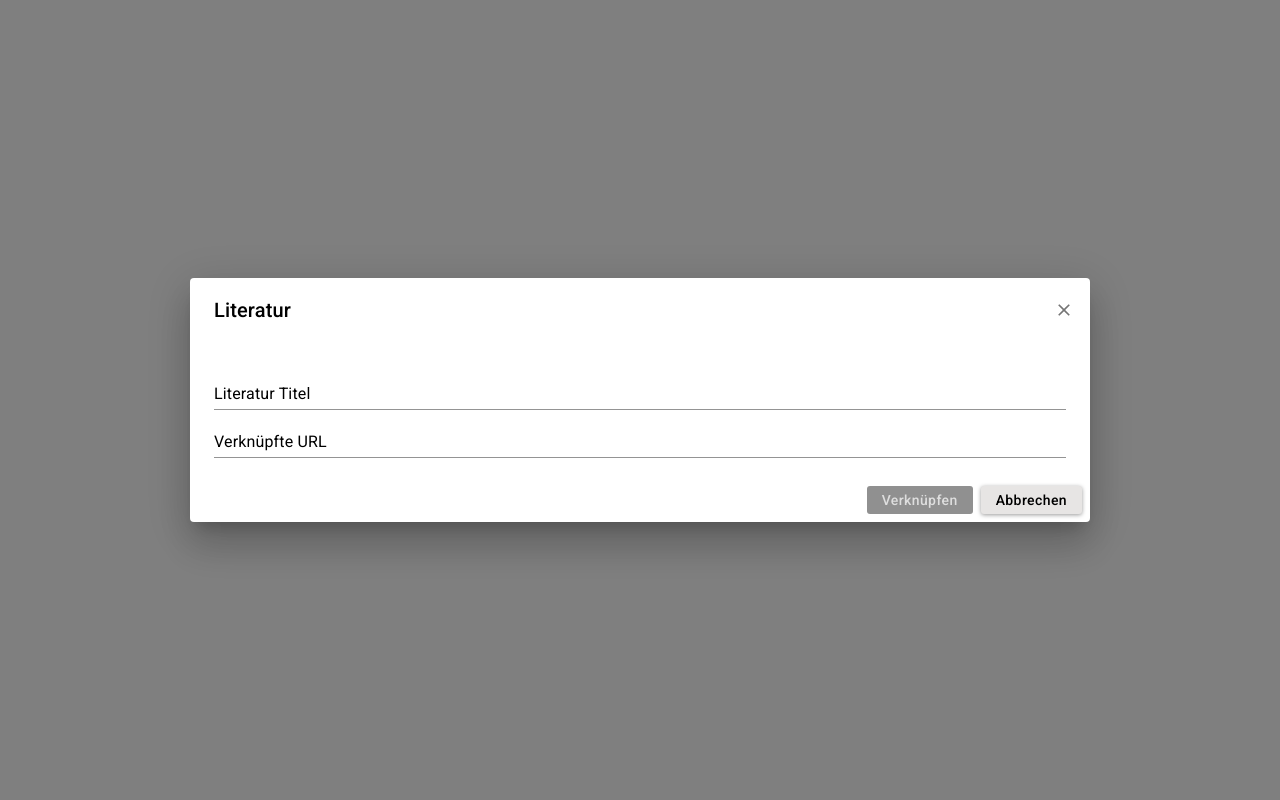
Test: LiteraturDialog › in edit mode › selecting options fills URL
What coordinates should you click on to do the following:
click the dropdown labelled "Literatur Titel"
I would click on:
 (640, 394)
Its box is [214,378,1066,409].
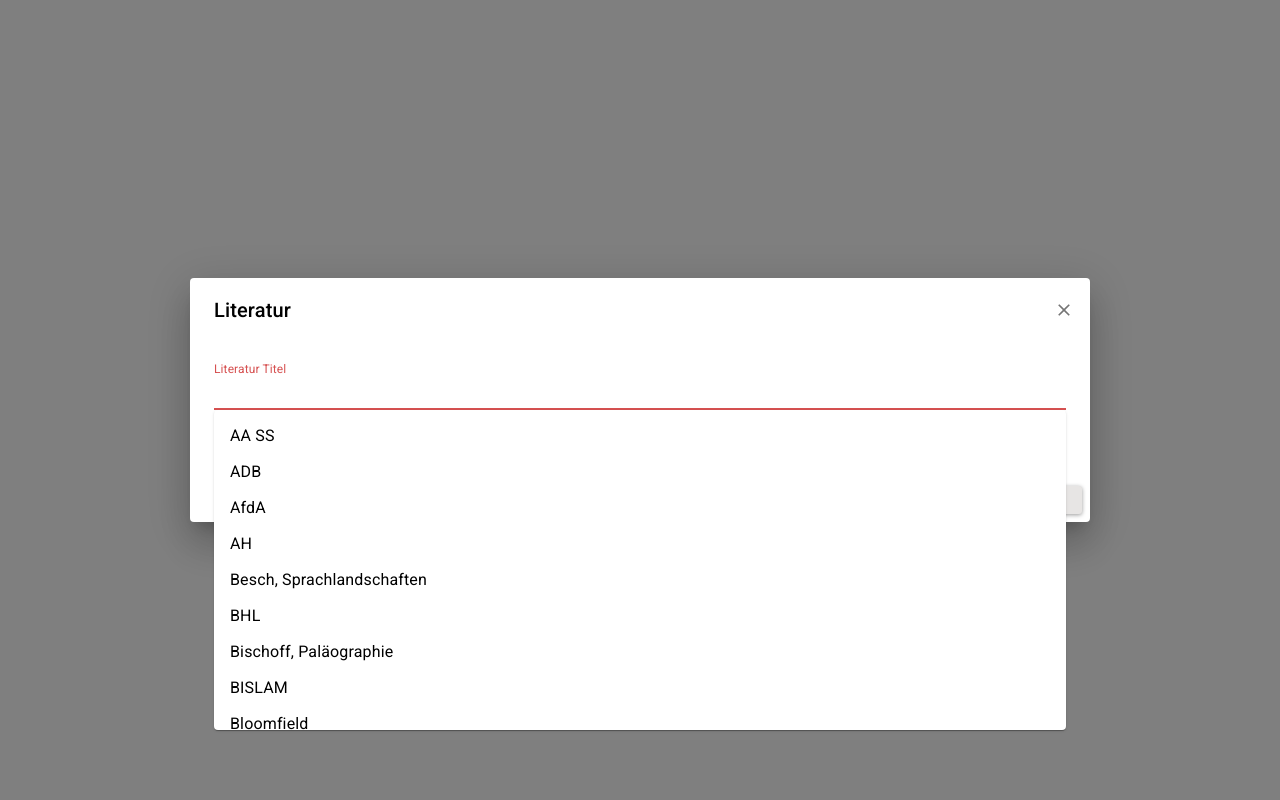
What coordinates should you click on to do the following:
click the option "AA SS"
I would click on:
 (252, 436)
Its box is [230,426,275,445].
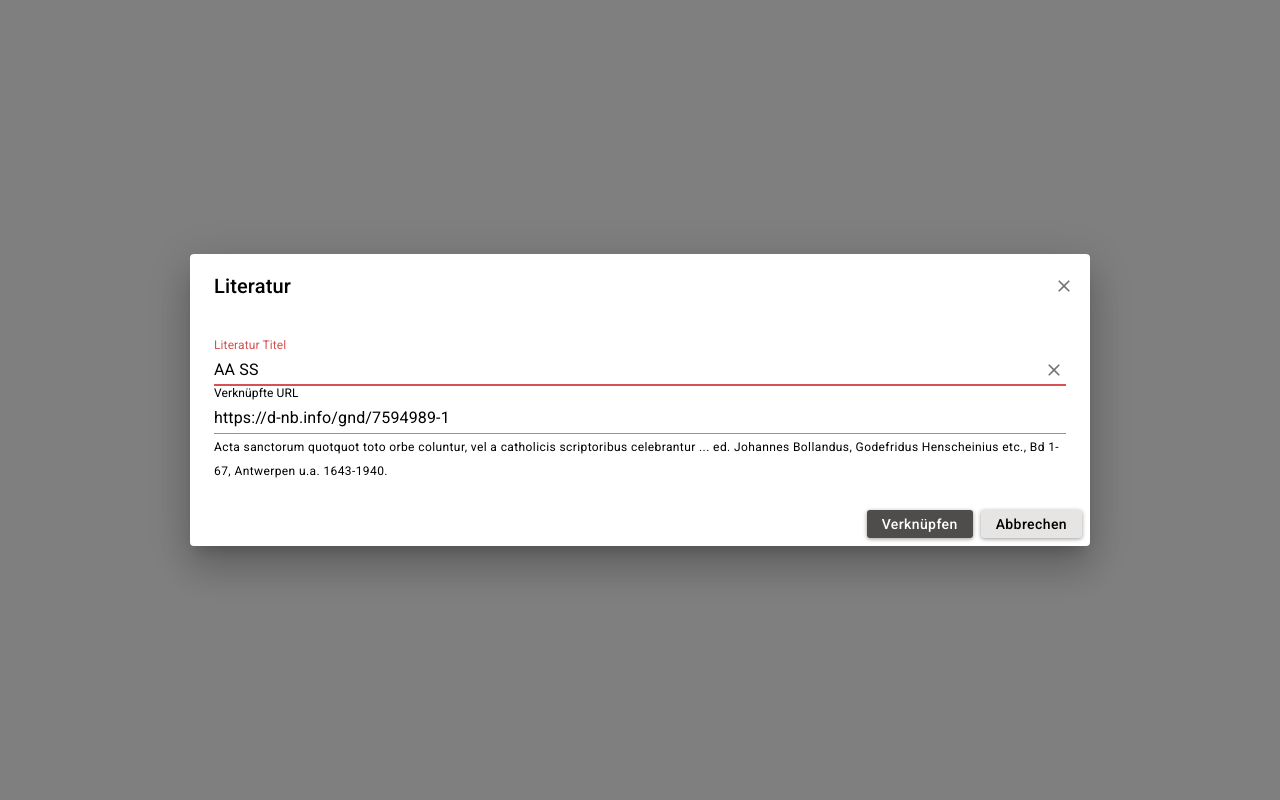
Now the field labelled "Verknüpfte URL" holds "https://d-nb.info/gnd/7594989-1", box [214,402,1066,434]
